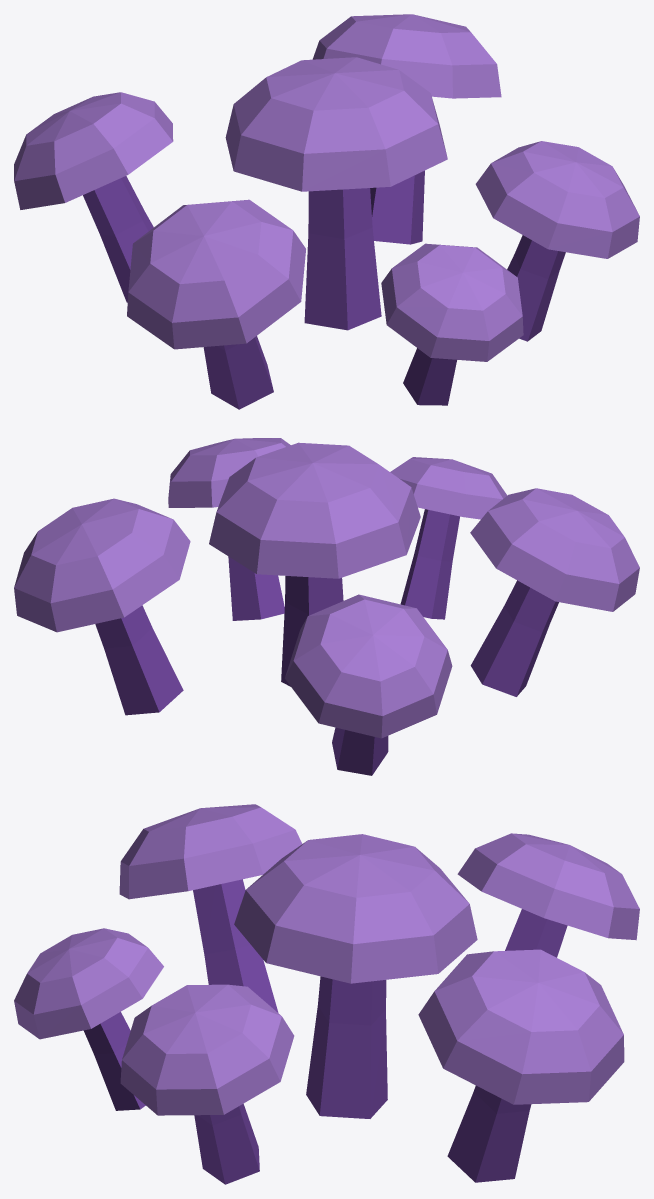
The model's file is plant_psilocap_a.obj.
3 views of the same model, one above another, from view 1: azimuth 30°, elevation 25°; view 2: azimuth 150°, elevation 25°; view 3: azimuth 270°, elevation 25° (orthographic). The views are drawn at different scales.
Visible parts, largest first — view 1: plant_psilocap_a_1, plant_psilocap_a_3, plant_psilocap_a_5, plant_psilocap_a_11, plant_psilocap_a_7, plant_psilocap_a_9, plant_psilocap_a_0, plant_psilocap_a_6, plant_psilocap_a_2, plant_psilocap_a_4, plant_psilocap_a_8, plant_psilocap_a_10; view 2: plant_psilocap_a_1, plant_psilocap_a_7, plant_psilocap_a_9, plant_psilocap_a_3, plant_psilocap_a_8, plant_psilocap_a_2, plant_psilocap_a_11, plant_psilocap_a_5, plant_psilocap_a_10, plant_psilocap_a_0, plant_psilocap_a_4, plant_psilocap_a_6; view 3: plant_psilocap_a_1, plant_psilocap_a_9, plant_psilocap_a_5, plant_psilocap_a_7, plant_psilocap_a_3, plant_psilocap_a_11, plant_psilocap_a_0, plant_psilocap_a_2, plant_psilocap_a_8, plant_psilocap_a_4, plant_psilocap_a_10, plant_psilocap_a_6.
Boxes of the visible parts, x1,y1,x2,y2 form: plant_psilocap_a_1: (225,57,447,191); plant_psilocap_a_3: (127,199,305,349); plant_psilocap_a_5: (475,141,639,258); plant_psilocap_a_11: (381,243,523,361); plant_psilocap_a_7: (14,92,173,209); plant_psilocap_a_9: (312,14,501,98); plant_psilocap_a_0: (304,188,381,330); plant_psilocap_a_6: (83,176,153,302); plant_psilocap_a_2: (203,336,273,409); plant_psilocap_a_4: (507,235,565,341); plant_psilocap_a_8: (370,170,424,244); plant_psilocap_a_10: (403,348,456,405); plant_psilocap_a_1: (209,442,420,578); plant_psilocap_a_7: (285,594,452,738); plant_psilocap_a_9: (14,498,190,632); plant_psilocap_a_3: (470,488,639,611); plant_psilocap_a_8: (95,605,183,715); plant_psilocap_a_2: (470,580,558,696); plant_psilocap_a_11: (390,457,507,519); plant_psilocap_a_5: (168,438,290,507); plant_psilocap_a_10: (400,509,459,619); plant_psilocap_a_0: (281,576,343,686); plant_psilocap_a_4: (228,556,284,620); plant_psilocap_a_6: (332,727,388,775); plant_psilocap_a_1: (234,834,477,983); plant_psilocap_a_9: (418,949,624,1104); plant_psilocap_a_5: (120,984,294,1115); plant_psilocap_a_7: (457,833,639,940); plant_psilocap_a_3: (119,804,302,899); plant_psilocap_a_11: (14,928,163,1039); plant_psilocap_a_0: (306,976,387,1118); plant_psilocap_a_2: (193,879,278,1012); plant_psilocap_a_8: (447,1085,531,1182); plant_psilocap_a_4: (194,1103,259,1184); plant_psilocap_a_10: (83,1012,145,1110); plant_psilocap_a_6: (505,909,567,957).
Size of the model in its own units: 1.38 by 0.6596 by 1.43.
